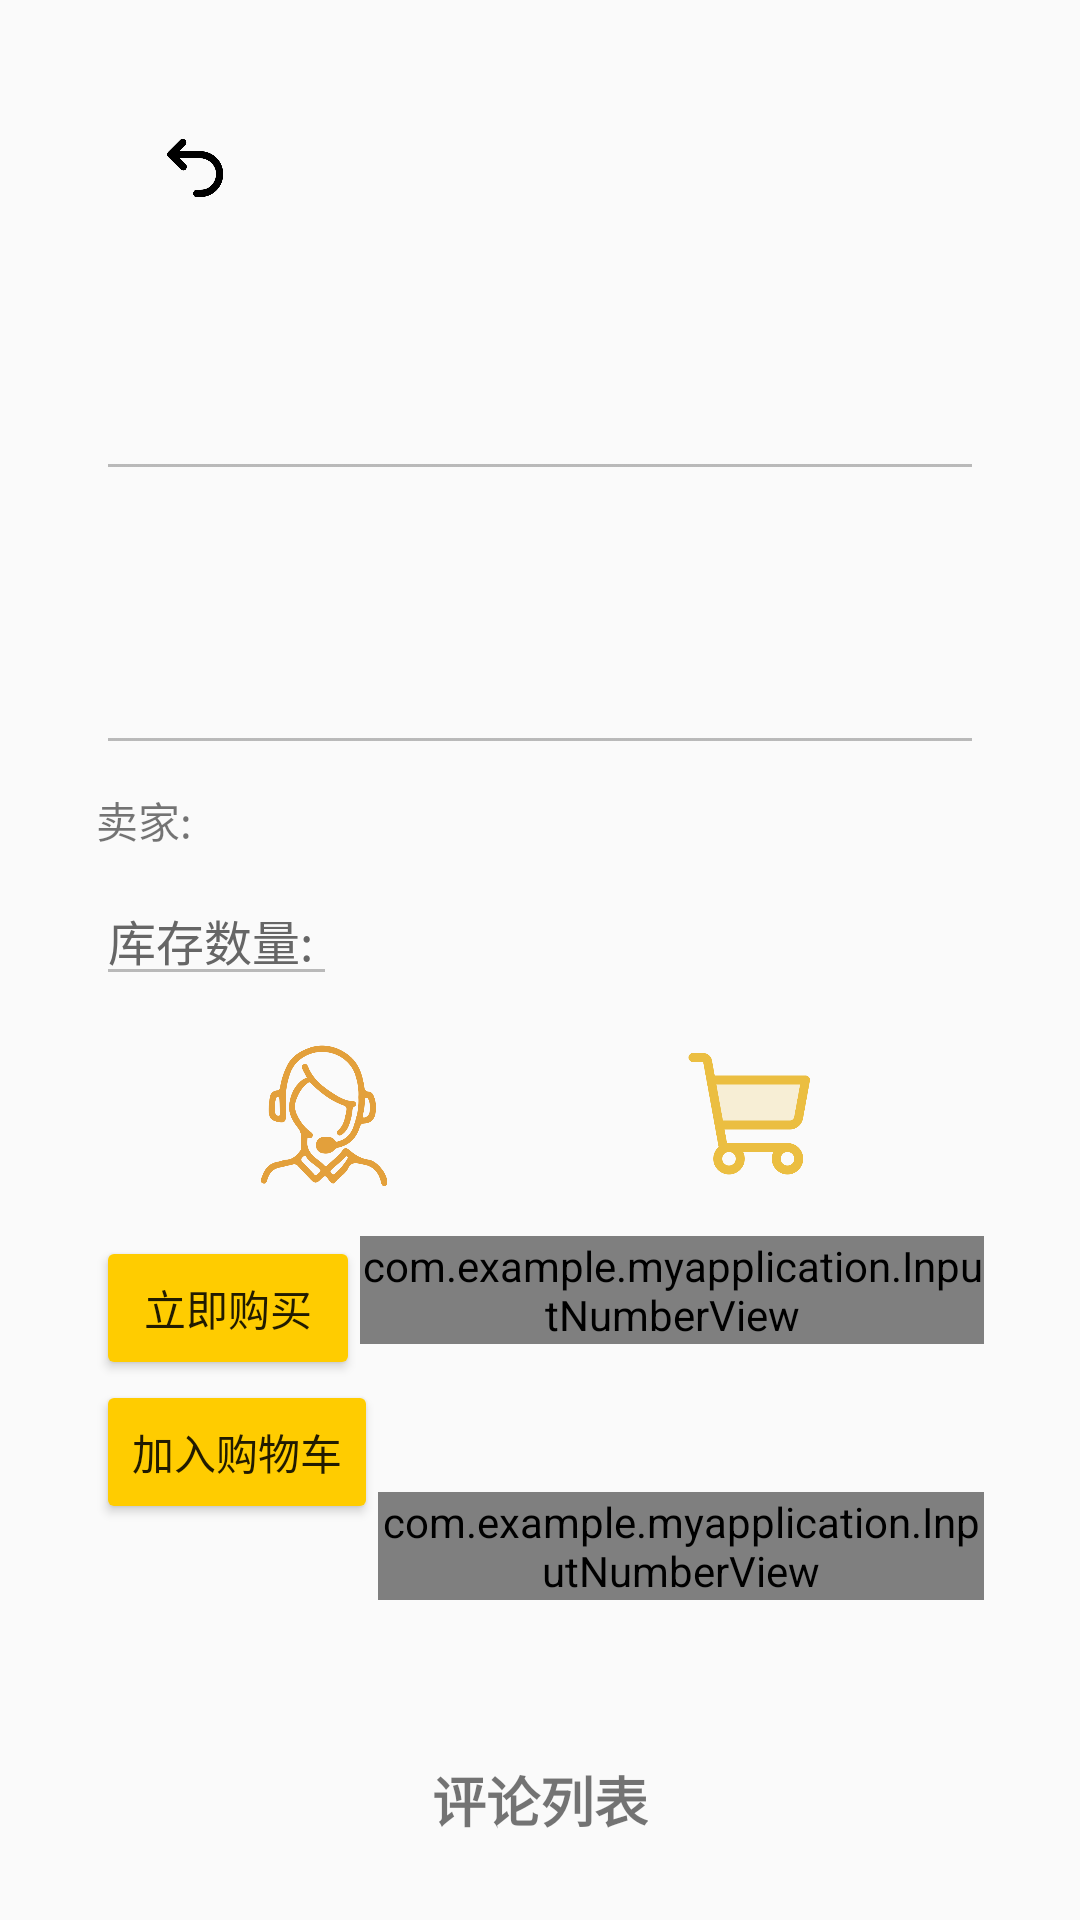

Screen size 1080w x 1920h. Icon name, then its box in pixels as [x1,y1,x2,y2]:
return: [167,139,223,197]
联系商家: [261,1045,387,1186]
购物车: [688,1053,810,1175]
